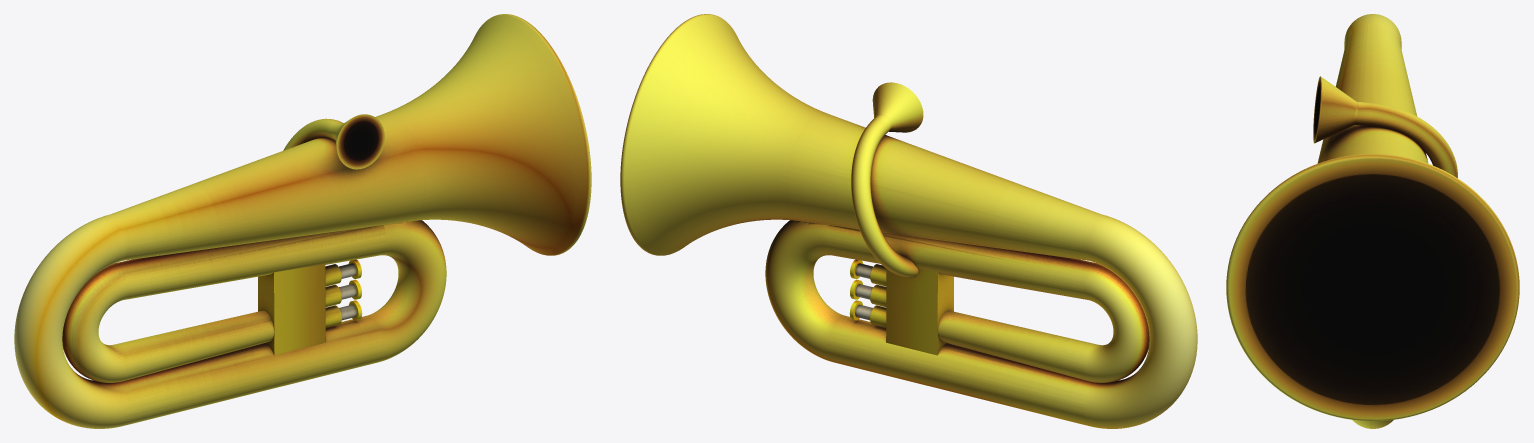
The model's file is tuba.glb.
3 views of the same model, side by side, from view 1: azimuth 30°, elevation 25°; view 2: azimuth 150°, elevation 25°; view 3: azimuth 270°, elevation 25° (orthographic). The views are drawn at different scales.
Parts seen in each view (by area): view 1: Object_2, Object_5, Object_6, Object_3, Object_4; view 2: Object_2, Object_5, Object_6, Object_4, Object_3; view 3: Object_5, Object_2, Object_4.
Boxes of the visible parts, box(x1,y1,x2,y2) form: Object_2: box(14, 14, 591, 428); Object_5: box(62, 114, 385, 382); Object_6: box(366, 220, 446, 361); Object_3: box(274, 260, 358, 355); Object_4: box(258, 118, 362, 354); Object_2: box(620, 14, 1197, 428); Object_5: box(826, 225, 1149, 382); Object_6: box(765, 220, 845, 361); Object_4: box(849, 82, 953, 354); Object_3: box(853, 260, 937, 355); Object_5: box(1230, 76, 1515, 418); Object_2: box(1226, 14, 1519, 420); Object_4: box(1315, 77, 1457, 178).
Size of the model in its own units: 45.52 by 25.53 by 18.99.
Materials: 1 (1 with a texture image).
